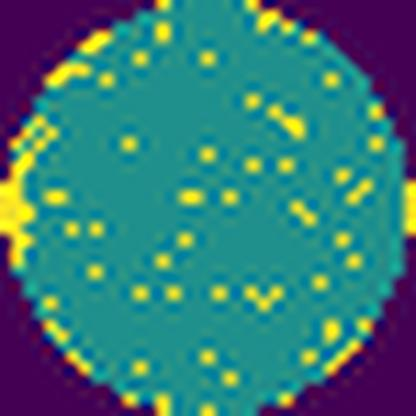Edge-Loc: (0, 112, 67, 267), (396, 178, 415, 244)
